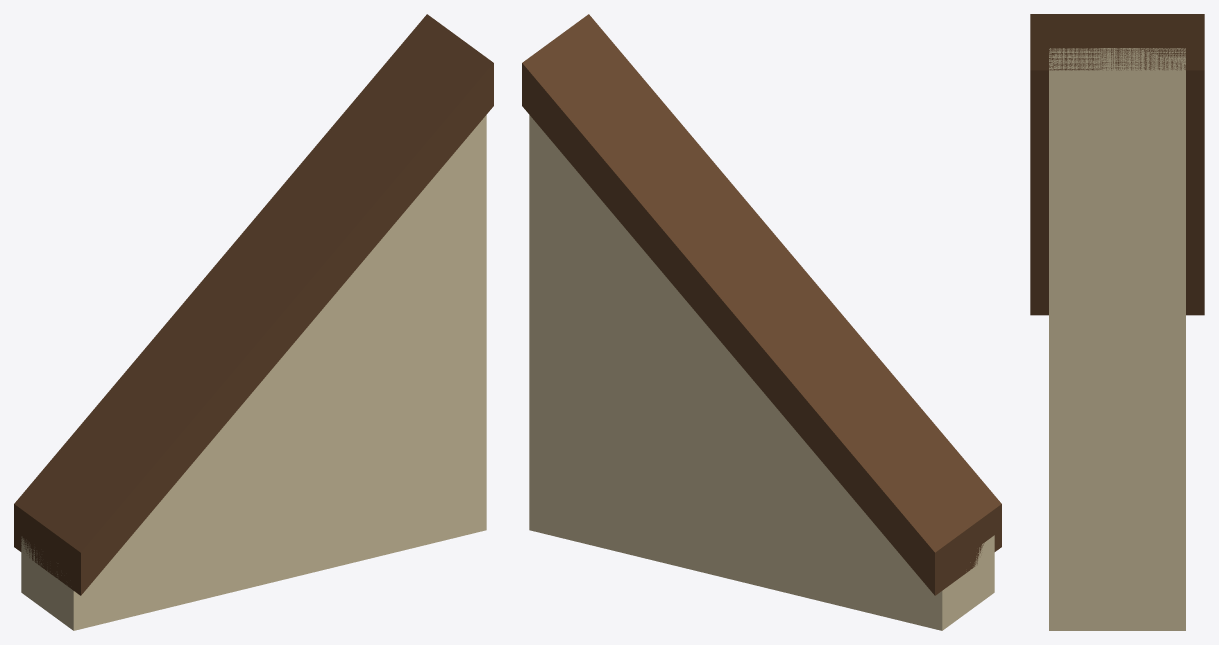
File: Gable0.fbx
3 views of the same model, side by side, from view 1: azimuth 30°, elevation 25°; view 2: azimuth 150°, elevation 25°; view 3: azimuth 270°, elevation 25° (orthographic). The views are drawn at different scales.
Visible parts, largest first — view 1: Kit_Gable0; view 2: Kit_Gable0; view 3: Kit_Gable0.
Boxes of the visible parts, x1,y1,x2,y2 form: Kit_Gable0: [14, 14, 493, 630]; Kit_Gable0: [522, 14, 1001, 630]; Kit_Gable0: [1030, 14, 1204, 630].
Size of the model in its own units: 1 by 1.09 by 0.28.
